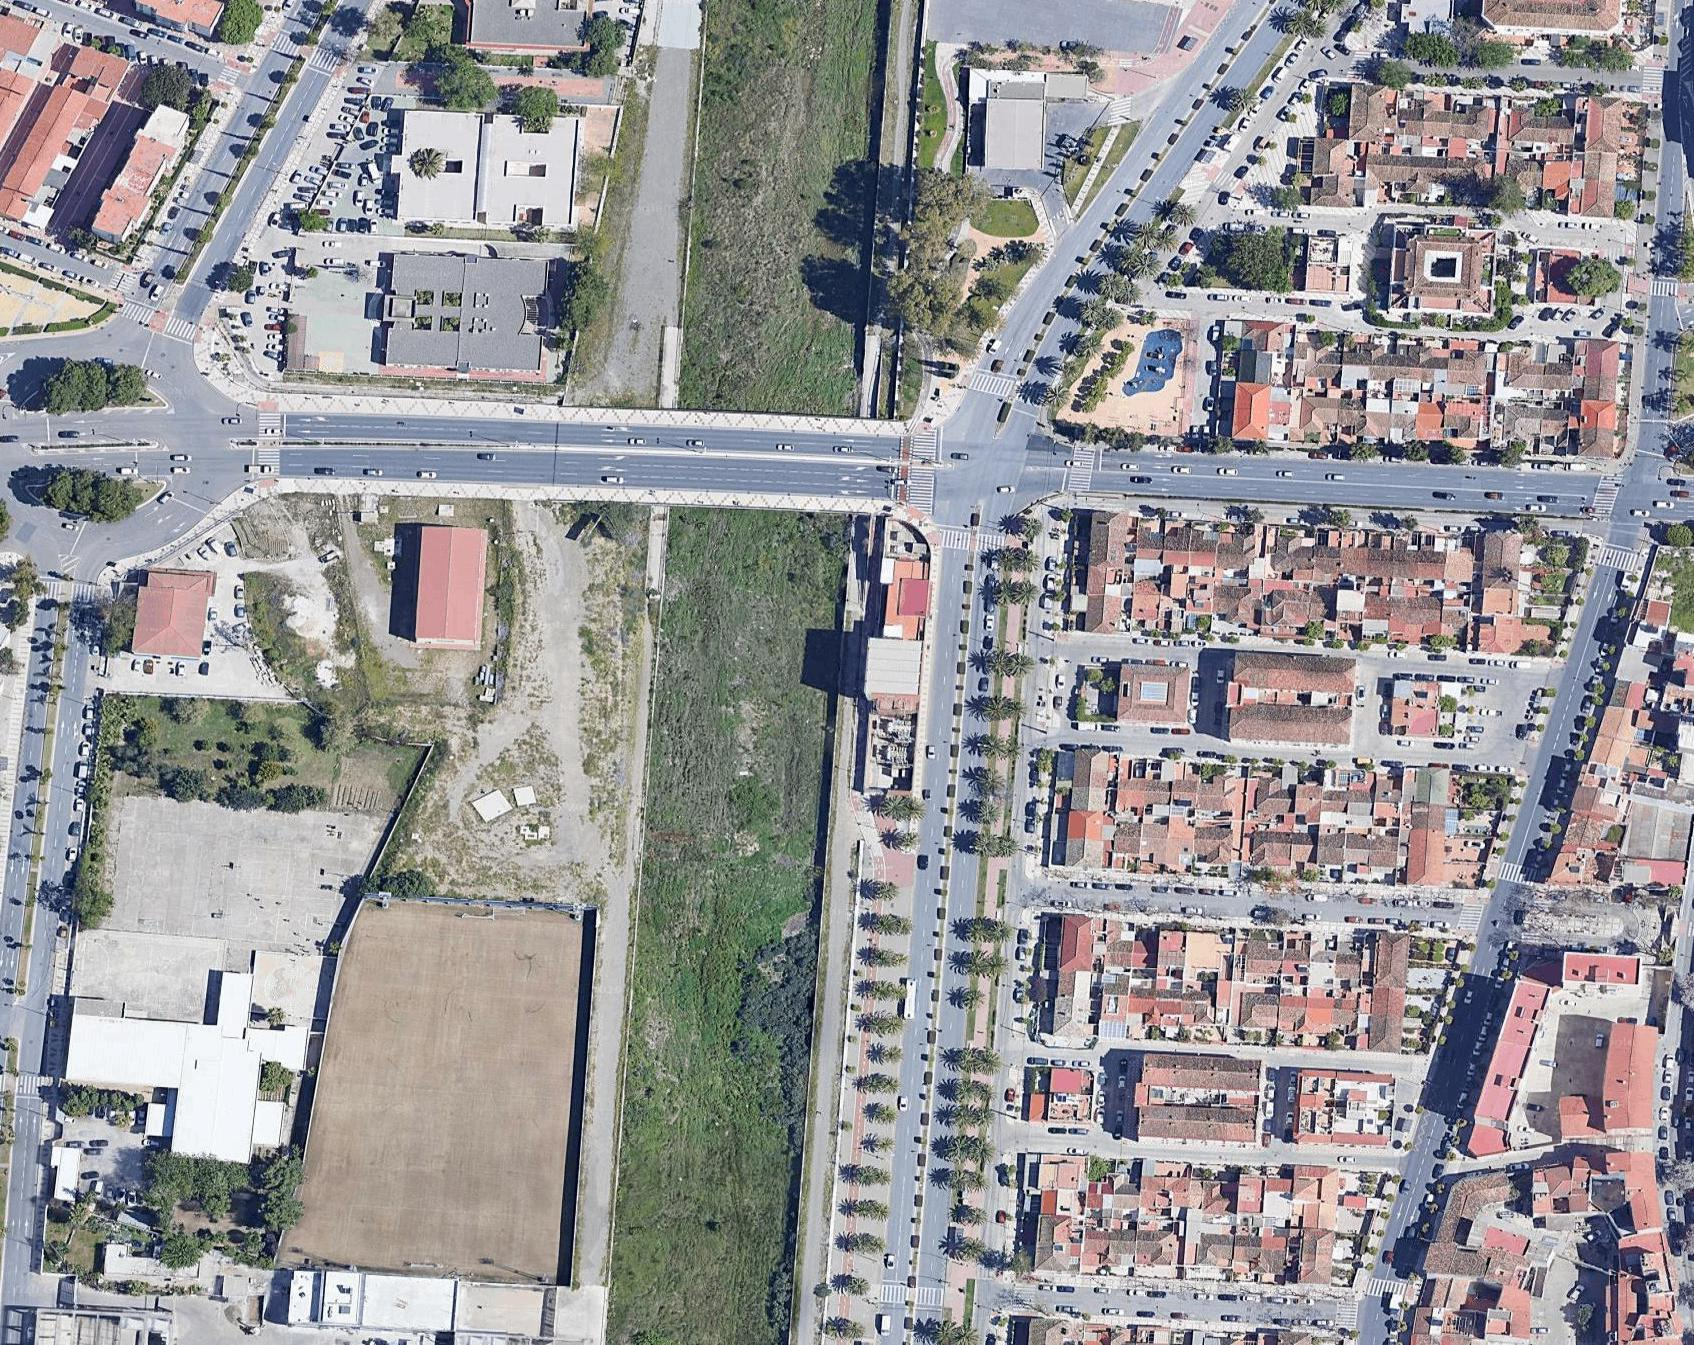substation: (869, 711, 916, 788)
